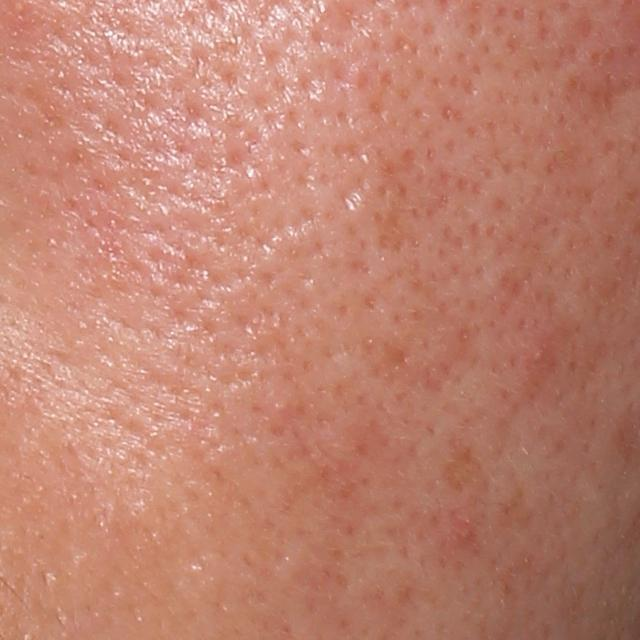papule: (450, 520, 483, 548)
